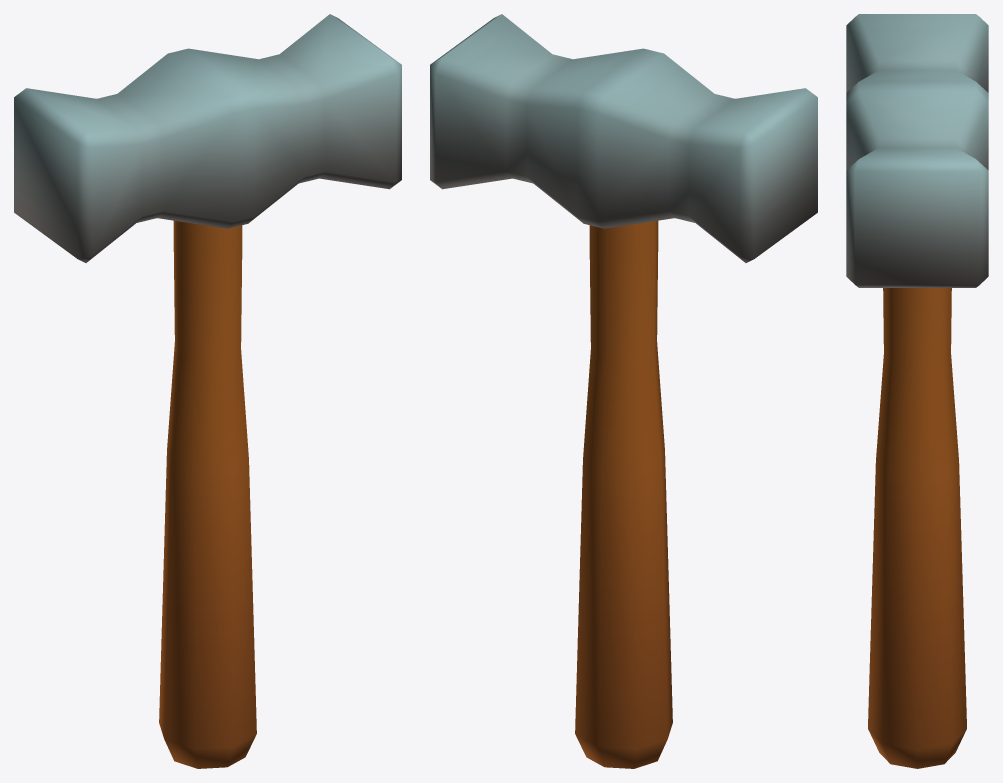
Rendered from Hammer.fbx.
The picture shows the model from 3 angles, left to right: view 1: azimuth 30°, elevation 25°; view 2: azimuth 150°, elevation 25°; view 3: azimuth 270°, elevation 25°; orthographic projection. The views are drawn at different scales.
Visible parts, largest first — view 1: Hammer; view 2: Hammer; view 3: Hammer.
Boxes of the visible parts, x1=… form: Hammer: x1=14, y1=14, x2=401, y2=768; Hammer: x1=430, y1=14, x2=817, y2=768; Hammer: x1=846, y1=14, x2=988, y2=768.
Size of the model in its own units: 51.56 by 105 by 19.99.
